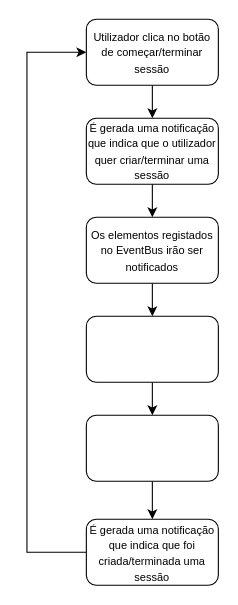
Some shapes in this 238 by 605 pixel diagram are drawn without their labels. The shapes that lost their labels are listed below. From the top down, each one's box as (x1, y1, x2, y2) in pixels, then its label:
(85, 315, 218, 382): É criada/terminada a sessão
(85, 414, 218, 481): Começa/Termina a sessão gravada
